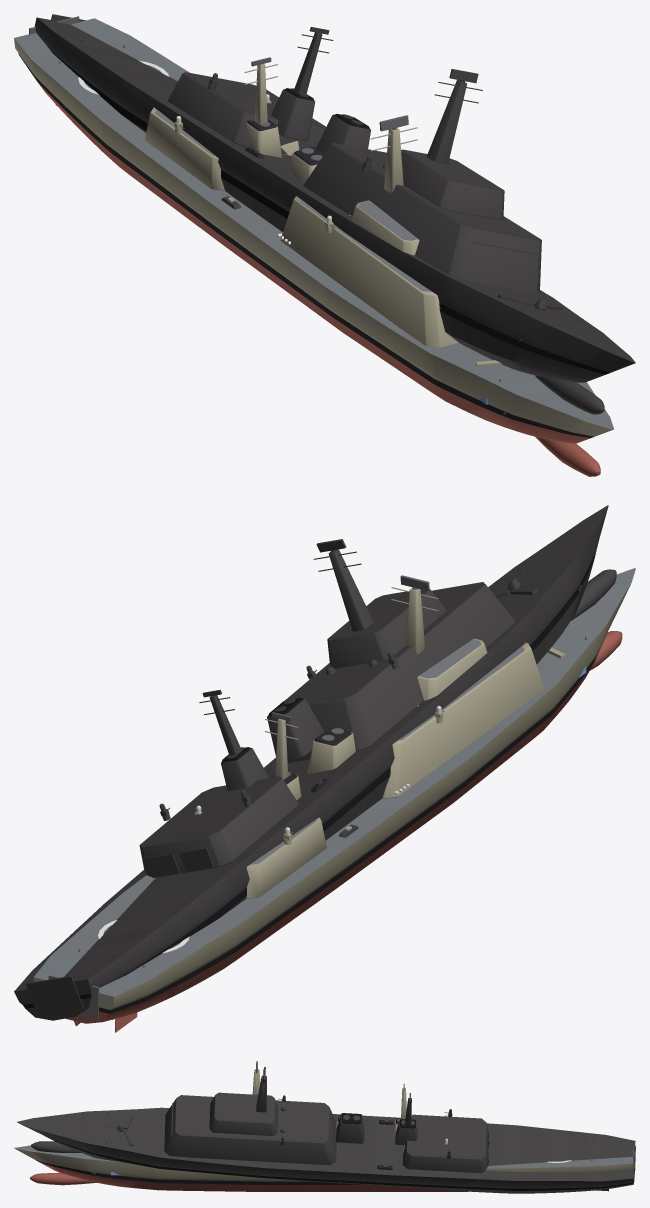
Rendered from landingShip__type_071.glb.
3 views of the same model, one above another, from view 1: azimuth 30°, elevation 25°; view 2: azimuth 150°, elevation 25°; view 3: azimuth 270°, elevation 25° (orthographic). The views are drawn at different scales.
Visible parts, largest first — view 1: Wreck, Hull_Mesh; view 2: Wreck, Hull_Mesh; view 3: Wreck, Hull_Mesh.
Boxes of the visible parts, x1,y1,x2,y2 form: Wreck: (34,14,635,414); Hull_Mesh: (14,16,614,476); Wreck: (14,505,616,1026); Hull_Mesh: (33,568,635,1032); Wreck: (17,1067,635,1193); Hull_Mesh: (14,1069,633,1191).
Size of what is drawn, in the model's own units: 35.4 by 53.29 by 220.
